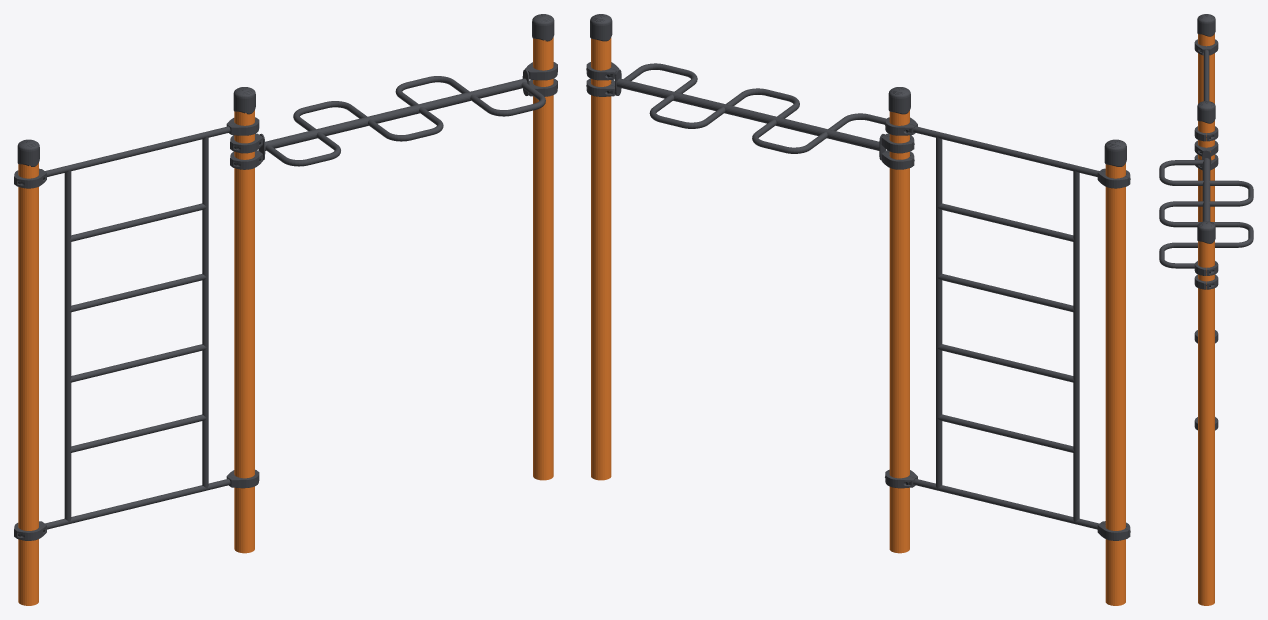
Rendered from germes.glb.
3 renders of one model, left to right at view 1: azimuth 30°, elevation 25°; view 2: azimuth 150°, elevation 25°; view 3: azimuth 270°, elevation 25°, orthographic. The views are drawn at different scales.
Parts seen in each view (by area): view 1: Mesh25, Mesh26, Mesh24, Mesh23, Mesh03, Mesh19, Mesh04, Mesh09, Mesh10, Mesh07, Mesh05, Mesh08 (+1 smaller); view 2: Mesh25, Mesh26, Mesh24, Mesh23, Mesh19, Mesh03, Mesh04, Mesh09, Mesh10, Mesh05, Mesh06, Mesh08 (+1 smaller); view 3: Mesh26, Mesh23, Mesh24, Mesh25, Mesh19, Mesh425, Mesh426, Mesh427, Mesh09.
Boxes of the visible parts, x1,y1,x2,y2 form: Mesh25: (18,163,38,605); Mesh26: (533,37,553,480); Mesh24: (234,110,254,553); Mesh23: (265,76,545,166); Mesh03: (64,170,71,521); Mesh19: (265,78,527,150); Mesh04: (202,136,208,488); Mesh09: (45,126,230,176); Mesh10: (45,478,230,529); Mesh07: (70,203,206,241); Mesh05: (69,344,206,382); Mesh08: (69,414,206,452); Mesh25: (1105,163,1125,605); Mesh26: (591,37,611,480); Mesh24: (889,110,909,553); Mesh23: (623,63,885,153); Mesh19: (616,78,879,150); Mesh03: (1073,170,1079,521); Mesh04: (936,136,942,488); Mesh09: (913,126,1099,176); Mesh10: (913,479,1099,529); Mesh05: (938,344,1074,382); Mesh06: (937,273,1074,311); Mesh08: (937,414,1074,452); Mesh26: (1198,241,1214,605); Mesh23: (1159,160,1253,268); Mesh24: (1198,120,1214,221); Mesh25: (1198,33,1214,103); Mesh19: (1202,158,1210,221); Mesh425: (1197,14,1215,36); Mesh426: (1197,101,1215,123); Mesh427: (1197,221,1215,243); Mesh09: (1203,47,1209,100).
Size of the model in its own units: 3.27 by 2.66 by 0.598.
